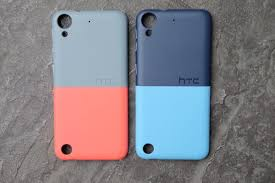htc: (133, 9, 214, 161)
